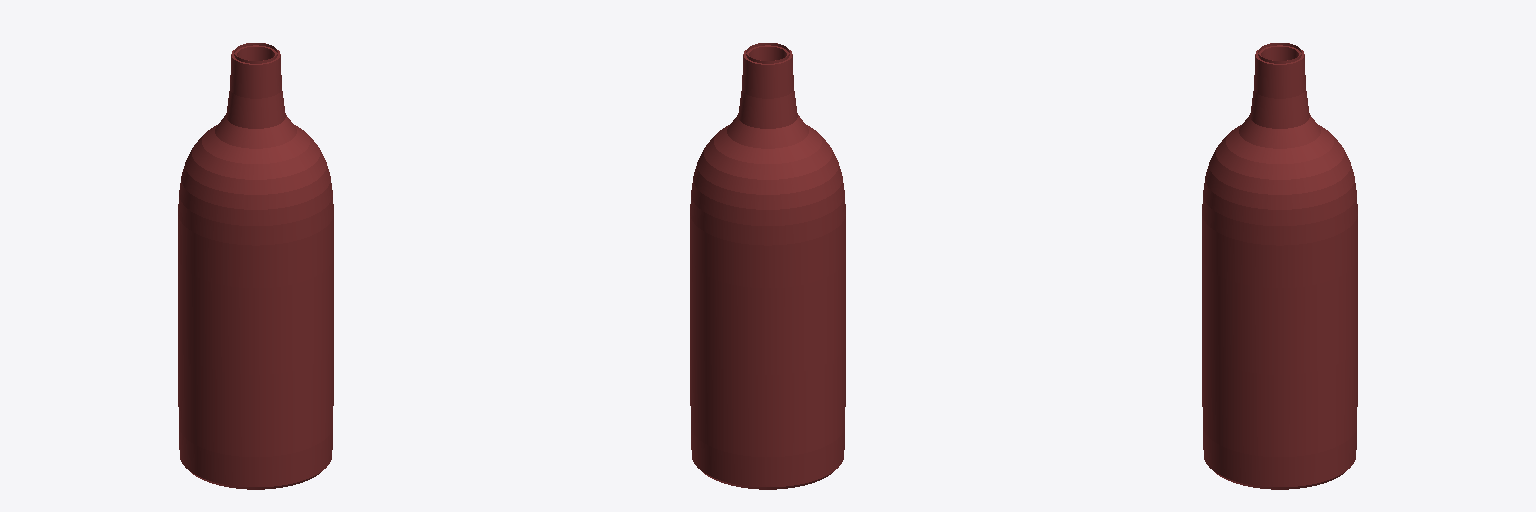
The model's file is bootle.obj.
The picture shows the model from 3 angles: view 1: azimuth 30°, elevation 25°; view 2: azimuth 150°, elevation 25°; view 3: azimuth 270°, elevation 25°; orthographic projection.
Parts seen in each view (by area): view 1: Cube; view 2: Cube; view 3: Cube.
Part boxes in pixels (bbox=[...]): Cube: bbox=[178, 43, 333, 489]; Cube: bbox=[690, 43, 845, 489]; Cube: bbox=[1202, 43, 1357, 489].
Size of the model in its own units: 4.85 by 13.97 by 4.85.